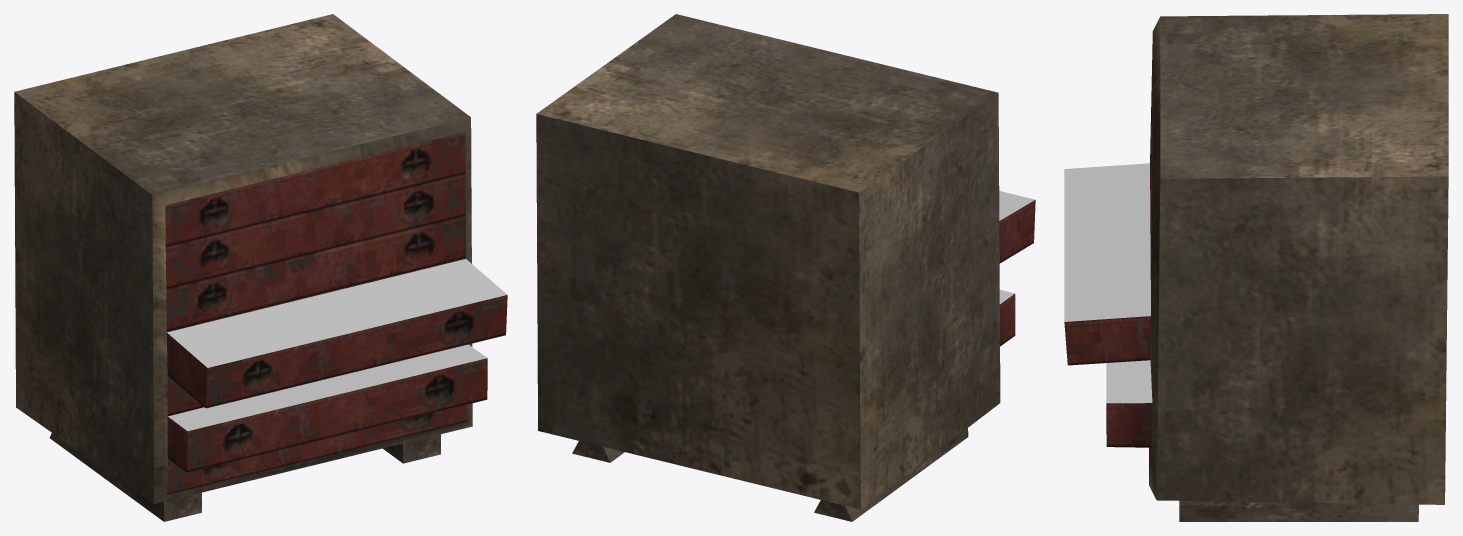
Rendered from frn_all_toolchest_med_s01_l1.fbx.
3 views of the same model, side by side, from view 1: azimuth 30°, elevation 25°; view 2: azimuth 150°, elevation 25°; view 3: azimuth 270°, elevation 25° (orthographic). The views are drawn at different scales.
Visible parts, largest first — view 1: mesh_node; view 2: mesh_node; view 3: mesh_node.
Part boxes in pixels (<box>): mesh_node: <box>14,14,507,521</box>; mesh_node: <box>536,14,1035,521</box>; mesh_node: <box>1064,14,1448,521</box>.
Size of the model in its own units: 1 by 1.02 by 0.9995.
